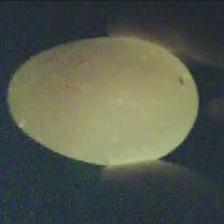infertile: (7, 36, 201, 168)
